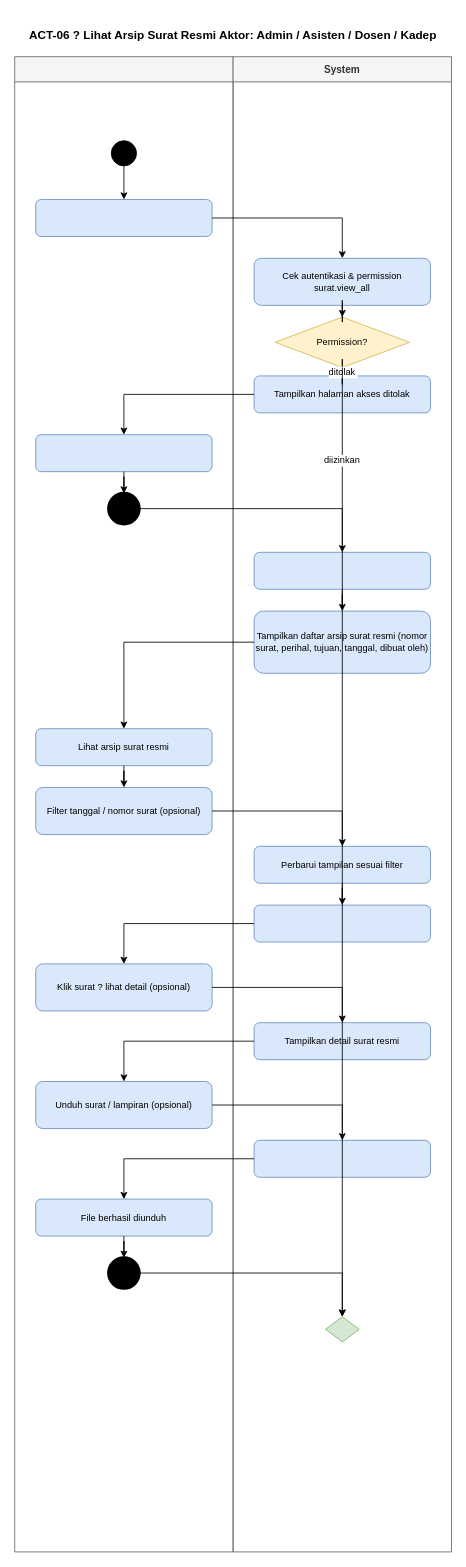
The diagram is 466 pixels wide and 1567 high, and some of its shapes have lost their labels. The box of each missing label's shape, as (x1, y1, x2, y2) in pixels:
Admin / Asisten (Sekretaris) / Dosen / Kadep: (14, 56, 233, 1552)
Ambil data arsip surat resmi: (253, 551, 430, 589)
Buka menu Arsip Surat Resmi: (35, 199, 212, 236)
Lihat pesan akses ditolak: (35, 434, 212, 472)
Mulai unduhan file: (253, 1139, 430, 1177)
Perbarui tampilan: (253, 904, 430, 942)
